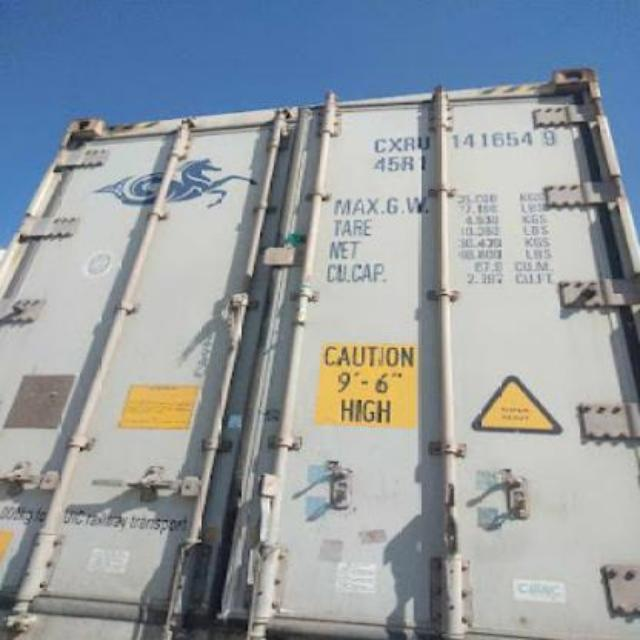1: (450, 128, 462, 152), (478, 130, 490, 150)
4: (516, 124, 536, 156), (462, 129, 478, 153)
5: (504, 127, 520, 151)
6: (492, 127, 504, 153)
9: (540, 125, 556, 148)
C: (364, 130, 388, 154)
R: (401, 128, 414, 156)
U: (414, 128, 430, 154)
X: (386, 129, 402, 155)
